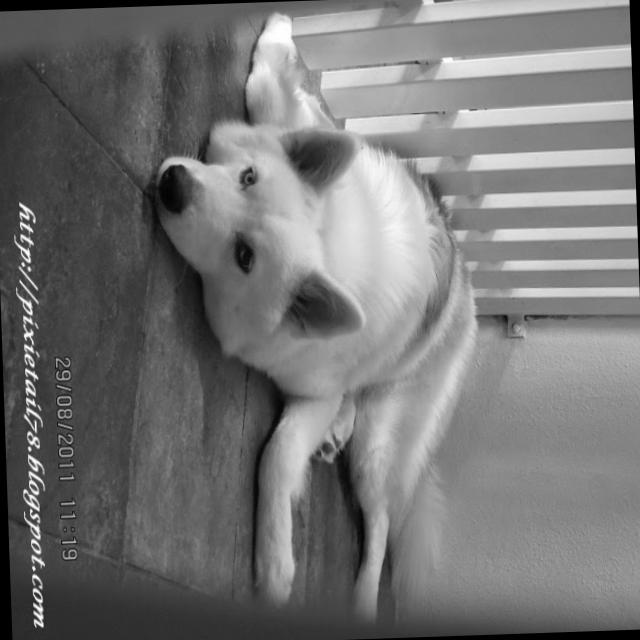laying down: (140, 2, 493, 640)
